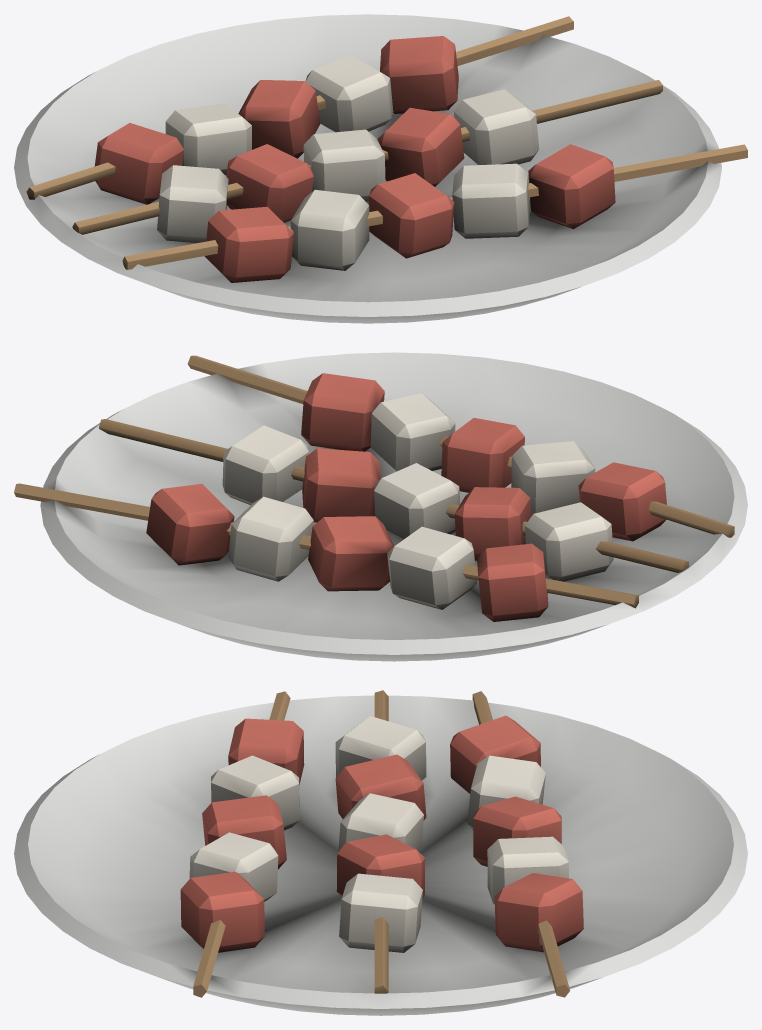
Rendered from meal_skewer.glb.
3 renders of one model, top to bottom at view 1: azimuth 30°, elevation 25°; view 2: azimuth 150°, elevation 25°; view 3: azimuth 270°, elevation 25°, orthographic. The views are drawn at different scales.
Parts seen in each view (by area): view 1: PART; view 2: PART; view 3: PART.
Boxes of the visible parts, box(x1,y1,x2,y2) form: PART: box(14, 14, 747, 323); PART: box(14, 352, 747, 661); PART: box(14, 690, 747, 1015).
Bounding box in the file's own units: 0.21 × 0.03 × 0.21.
